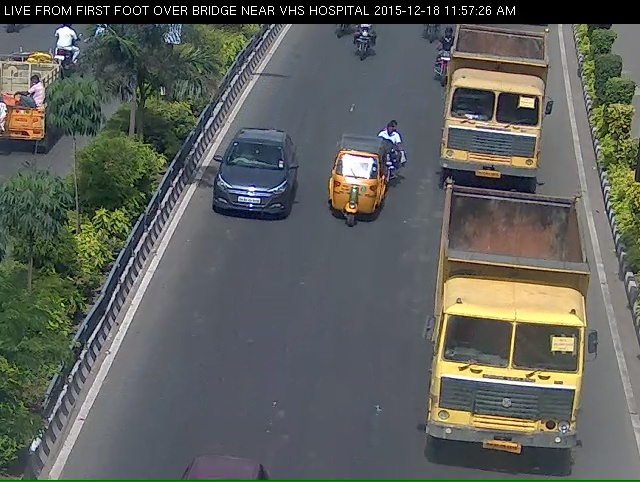Bus: (436, 208, 584, 472), (447, 30, 541, 195)
Car: (213, 149, 291, 233), (327, 141, 376, 248)
Person: (373, 133, 405, 194)
